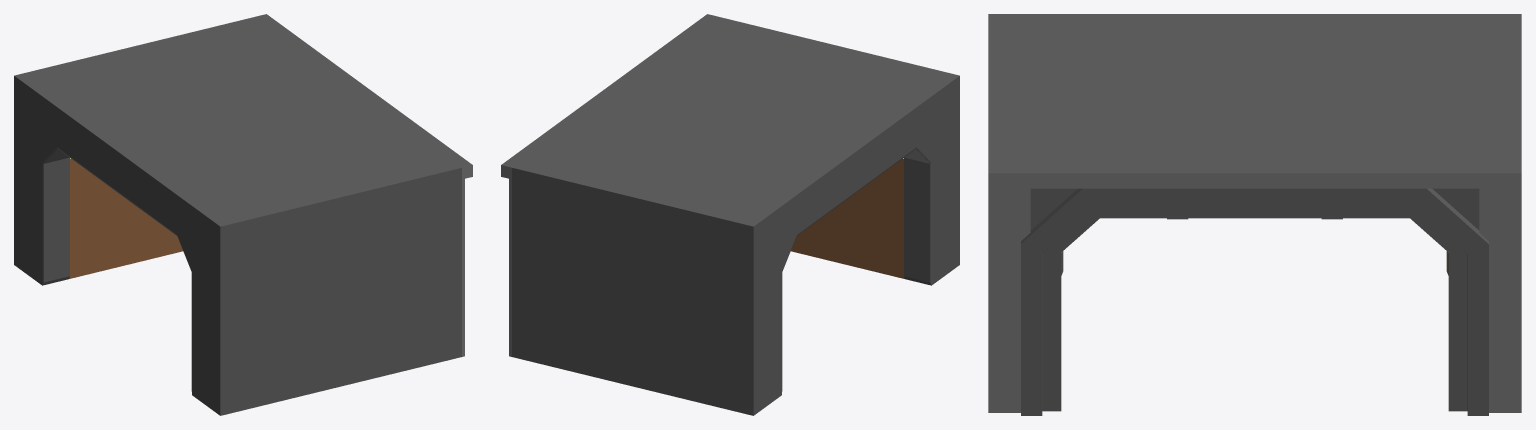
File: SM_ShortTunnelEmptyWithoutTop.fbx
3 views of the same model, side by side, from view 1: azimuth 30°, elevation 25°; view 2: azimuth 150°, elevation 25°; view 3: azimuth 270°, elevation 25° (orthographic). The views are drawn at different scales.
Parts seen in each view (by area): view 1: Cube.034; view 2: Cube.034; view 3: Cube.034.
Boxes of the visible parts, left/top/right/bottom form: Cube.034: left=14, top=14, right=472, bottom=415; Cube.034: left=501, top=14, right=959, bottom=415; Cube.034: left=988, top=14, right=1521, bottom=415.
Size of the model in its own units: 713 by 511 by 1008.
